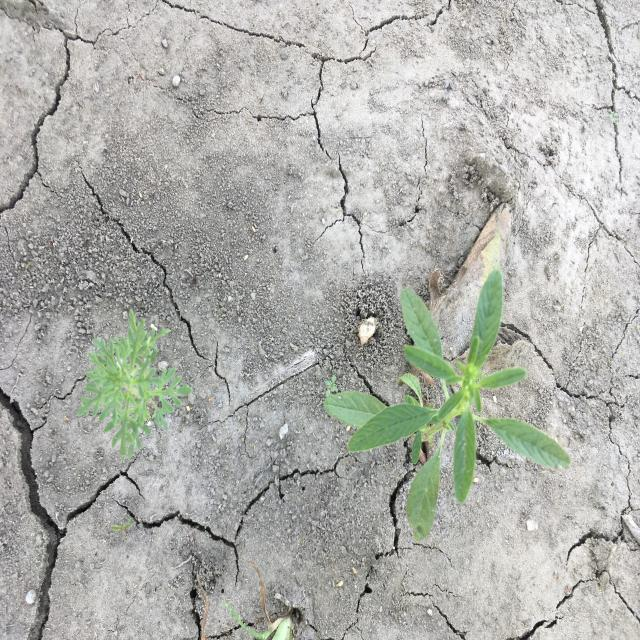Ragweed: (74, 307, 194, 464)
Waterhemp: (322, 270, 572, 543)
